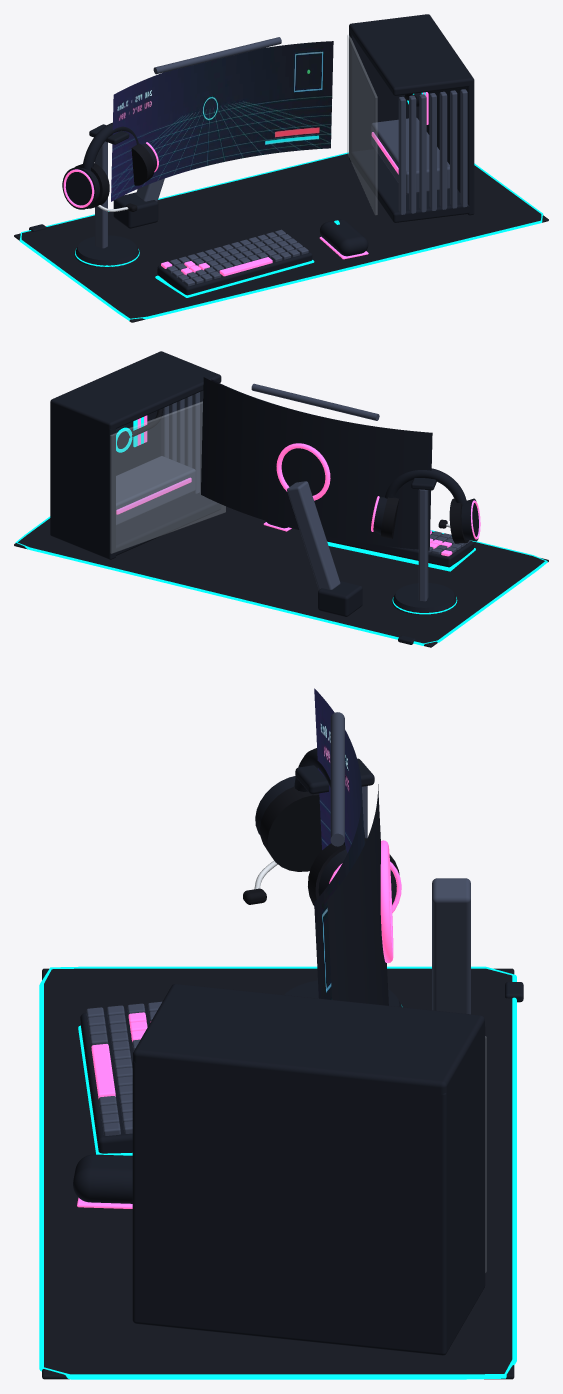
The model's file is atelier-gaming-loadout-battlestation-cyber.glb.
The picture shows the model from 3 angles, top to bottom: view 1: azimuth 30°, elevation 25°; view 2: azimuth 150°, elevation 25°; view 3: azimuth 270°, elevation 25°; orthographic projection. The views are drawn at different scales.
Parts seen in each view (by area): view 1: object 1, Gaming curved display, object 11, object 32, object 12, object 10, object 2, object 28, object 13, object 33, object 103, object 100 (+17 smaller); view 2: object 1, object 6, object 32, object 12, object 11, object 10, object 28, object 5, object 2, object 13, object 103, object 33 (+15 smaller); view 3: object 13, object 1, object 11, object 12, object 6, object 2, Gaming curved display, object 5, object 108, object 10, object 100, object 33 (+5 smaller).
Boxes of the visible parts, x1,y1,x2,y2 form: object 1: [14, 153, 548, 322]; Gaming curved display: [111, 41, 333, 201]; object 11: [349, 14, 474, 95]; object 32: [347, 35, 377, 214]; object 12: [349, 30, 419, 162]; object 10: [349, 149, 472, 222]; object 2: [19, 152, 543, 320]; object 28: [371, 117, 449, 194]; object 13: [426, 84, 474, 215]; object 33: [157, 234, 312, 295]; object 103: [74, 235, 139, 268]; object 100: [320, 219, 368, 256]; object 1: [14, 504, 548, 647]; object 6: [201, 377, 432, 550]; object 32: [110, 401, 225, 553]; object 12: [52, 407, 115, 559]; object 11: [50, 351, 221, 429]; object 10: [51, 492, 221, 556]; object 28: [116, 456, 195, 525]; object 5: [287, 481, 340, 589]; object 2: [15, 516, 547, 645]; object 13: [50, 405, 161, 536]; object 103: [392, 583, 457, 615]; object 33: [325, 532, 474, 567]; object 13: [132, 1061, 448, 1355]; object 1: [42, 968, 514, 1379]; object 11: [133, 984, 484, 1095]; object 12: [432, 1027, 485, 1355]; object 6: [327, 784, 388, 1005]; object 2: [39, 966, 516, 1379]; Gaming curved display: [314, 688, 364, 999]; object 5: [432, 878, 470, 1014]; object 108: [260, 786, 321, 871]; object 10: [136, 1271, 484, 1349]; object 100: [73, 1154, 132, 1203]; object 33: [80, 1007, 149, 1153].
Size of the model in its own units: 0.9452 by 0.3823 by 0.4716.
Materials: 9 (1 with a texture image).
